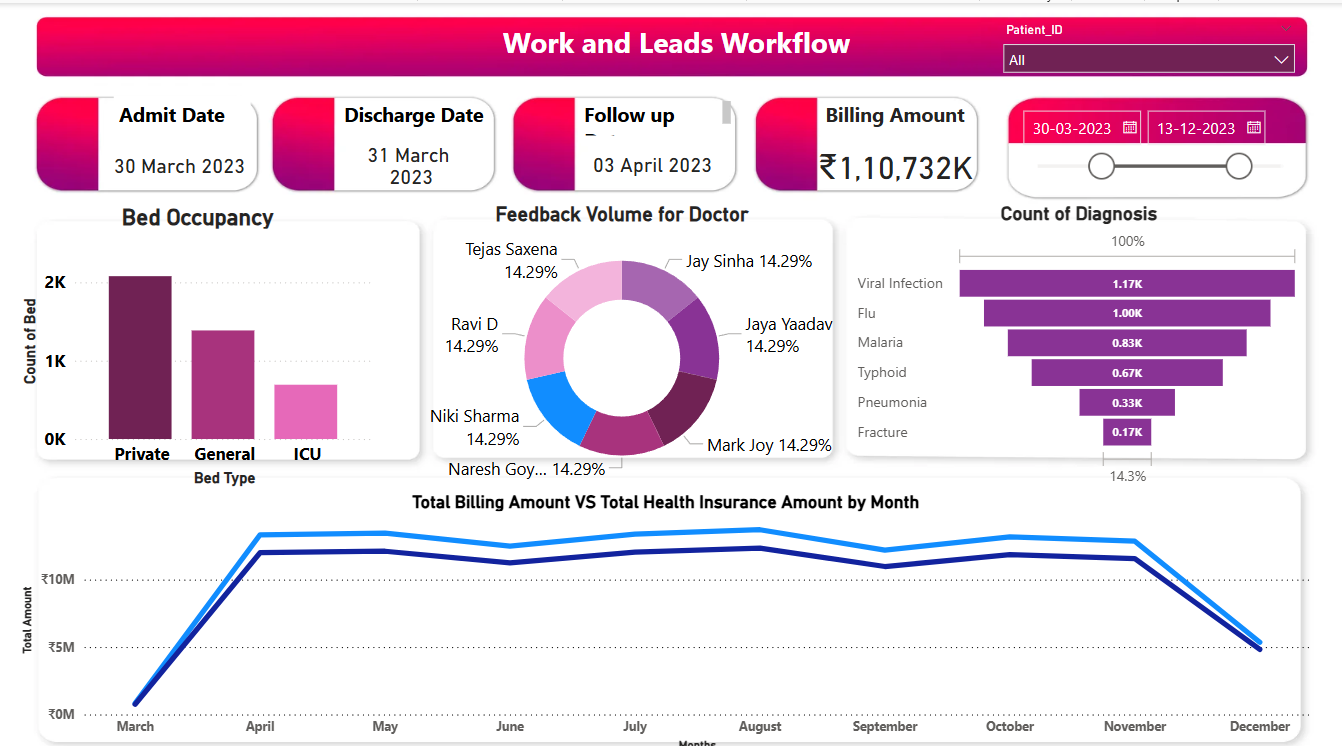

The page's visual inventory and layout, read from the dashboard file:
{"tool":"powerbi","page":{"name":"Page 1","canvas":[1280,720],"ordinal":0},"visuals":[{"type":"textbox","box":[474.3,15.7,384.3,57.1],"z":0},{"type":"slicer","fields":{"Values":["Sheet1.Patient_ID"]},"box":[945.6,15.6,297.8,57.8],"z":1},{"type":"card","fields":{"Values":["Sheet1.Admit_Date"]},"box":[90,121.4,161.4,71.4],"z":2},{"type":"textbox","box":[108.6,90,130,42.9],"z":3},{"type":"textbox","box":[322.9,90,162.9,42.9],"z":4},{"type":"card","fields":{"Values":["Sheet1.Discharge_Date"]},"box":[322.9,121.4,138.6,71.4],"z":5},{"type":"textbox","box":[551.4,90,150,42.9],"z":6},{"type":"card","fields":{"Values":["Sheet1.Followup Date"]},"box":[541.4,121.4,160,70],"z":7},{"type":"textbox","box":[781.4,90,154.3,42.9],"z":8},{"type":"card","fields":{"Values":["Sheet1.Billing Amount"]},"box":[770,104.3,165.7,104.3],"z":9},{"type":"slicer","fields":{"Values":["Sheet1.Admit_Date"]},"box":[961.4,94.3,281.4,98.6],"z":10},{"type":"columnChart","title":"Bed Occupancy","fields":{"Category":["Sheet1.Bed_Occupancy"],"Y":["Sheet1.Bed_Occupancy"]},"box":[15.7,192.9,345.7,274.3],"z":11},{"type":"donutChart","title":"Feedback Volume for Doctor","fields":{"Y":["Sheet1.Doctor"],"Category":["Sheet1.Doctor"]},"box":[374.3,191.4,437.1,275.7],"z":12},{"type":"funnel","title":"Count of Diagnosis","fields":{"Y":["Sheet1.Diagnosis"],"Category":["Sheet1.Diagnosis"]},"box":[811.4,191.4,431.4,275.7],"z":13},{"type":"lineChart","title":"Total Billing Amount VS Total Health Insurance Amount by Month","fields":{"Y":["Sheet1.Billing Amount","Sheet1.Health Insurance Amount"],"Category":["Sheet1.Admit_Date.Variation.Date Hierarchy.Month"]},"box":[15.7,467.1,1237.1,252.9],"z":14}]}

Visuals, with their boxes in screenshot pixels (x1, y1, x2, y2), scaled from the page's 1280x720 canvas onto the 1342x746 screenshot:
textbox: 497/16/900/75
slicer - Sheet1.Patient_ID: 991/16/1304/76
card - Sheet1.Admit_Date: 94/126/264/200
textbox: 114/93/250/138
textbox: 339/93/509/138
card - Sheet1.Discharge_Date: 339/126/484/200
textbox: 578/93/735/138
card - Sheet1.Followup Date: 568/126/735/198
textbox: 819/93/981/138
card - Sheet1.Billing Amount: 807/108/981/216
slicer - Sheet1.Admit_Date: 1008/98/1303/200
"Bed Occupancy" columnChart: 16/200/379/484
"Feedback Volume for Doctor" donutChart: 392/198/851/484
"Count of Diagnosis" funnel: 851/198/1303/484
"Total Billing Amount VS Total Health Insurance Amount by Month" lineChart: 16/484/1313/745
